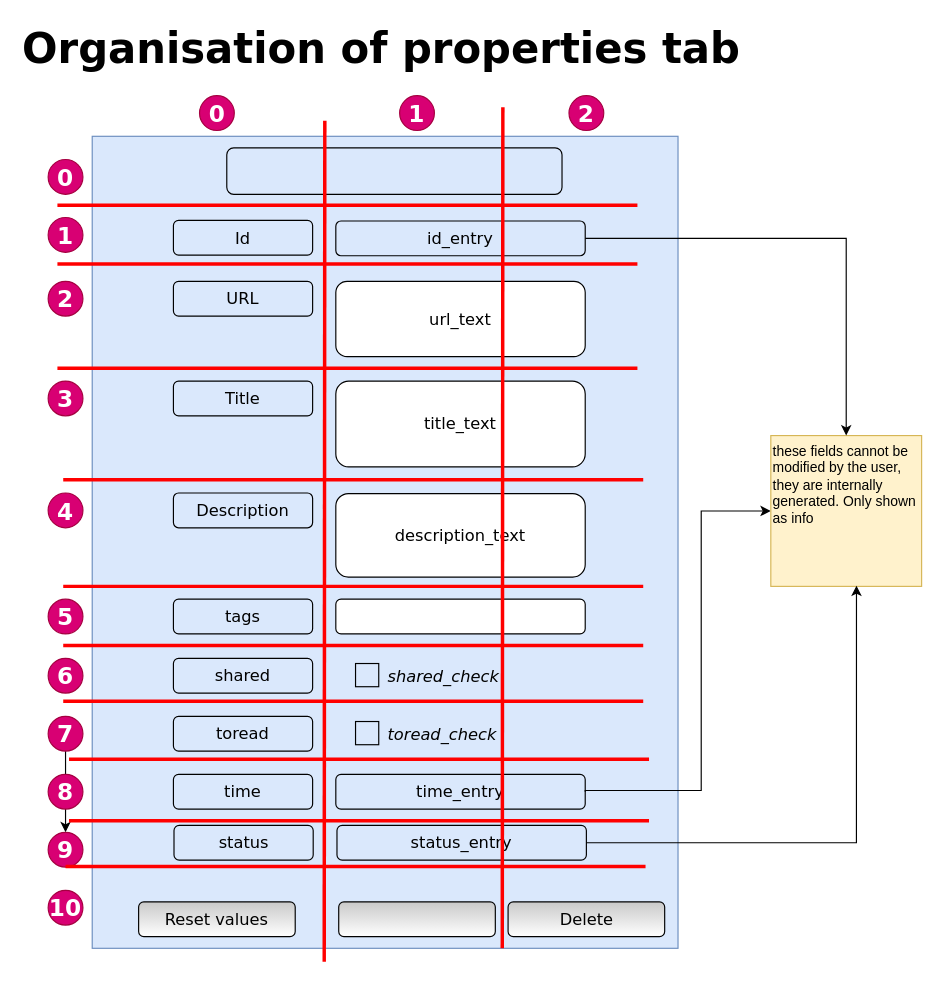
This 942x984 diagram has some shape labels left out. Each missing label, with the box of its shape:
Apply changes: (338, 901, 495, 937)
Details pane (title): (226, 147, 562, 194)
tags_entry: (335, 598, 585, 634)
